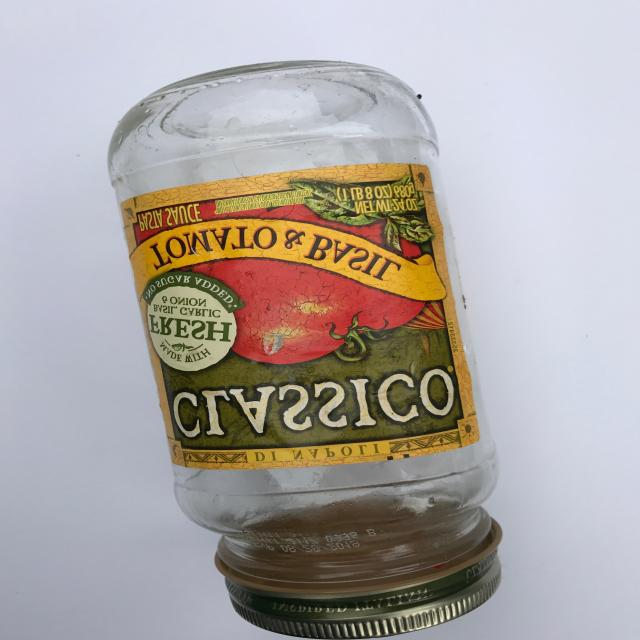glass: (80, 45, 510, 640)
